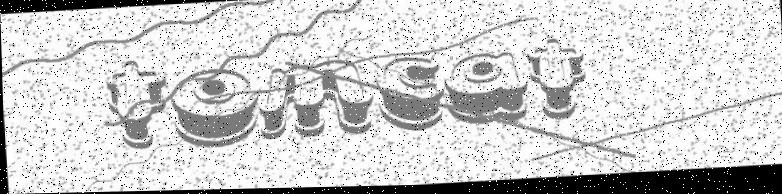a: (445, 50, 532, 128)
c: (371, 53, 447, 135)
m: (253, 55, 380, 141)
o: (166, 65, 264, 152)
t: (99, 54, 174, 150), (524, 34, 590, 124)
